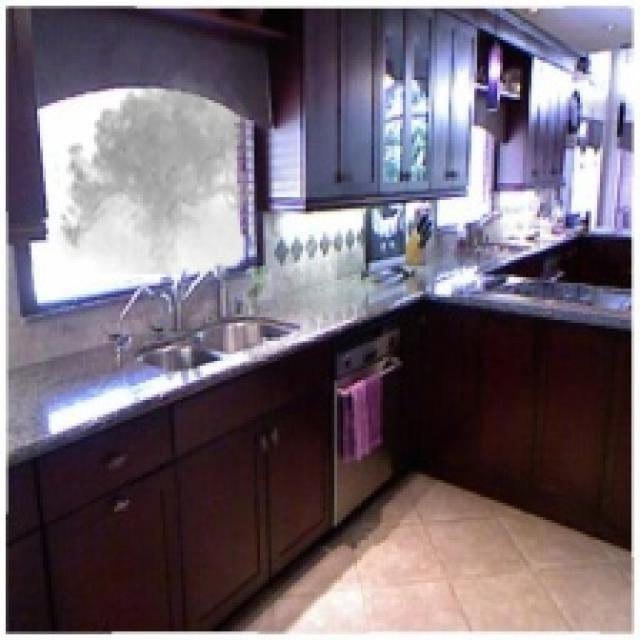smoke: (54, 60, 257, 274)
